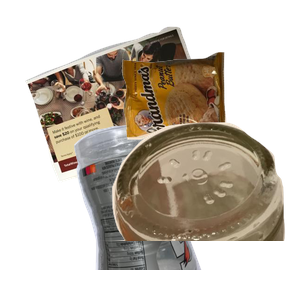glass: (89, 120, 300, 300)
paper: (23, 24, 232, 199)
plastic: (71, 120, 265, 300)
trash: (120, 50, 300, 182)
